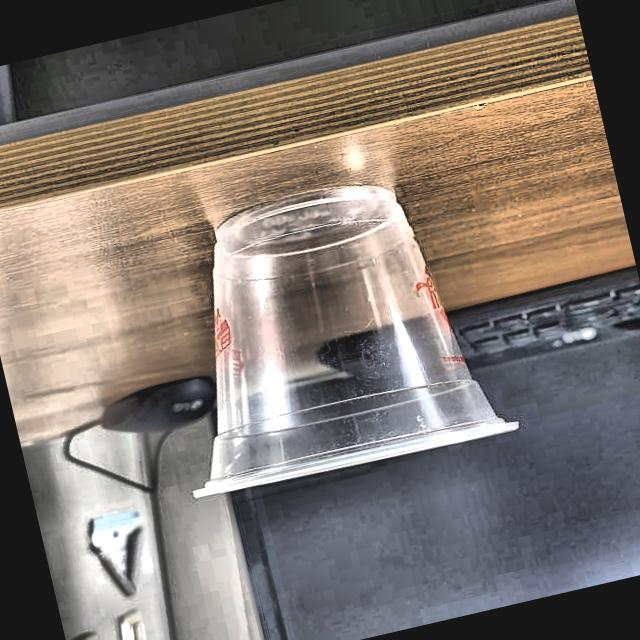plastic cup: (134, 155, 523, 506)
